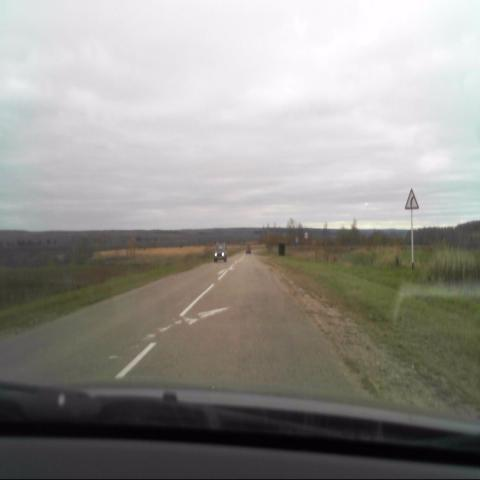1_11: (405, 188, 419, 209)
